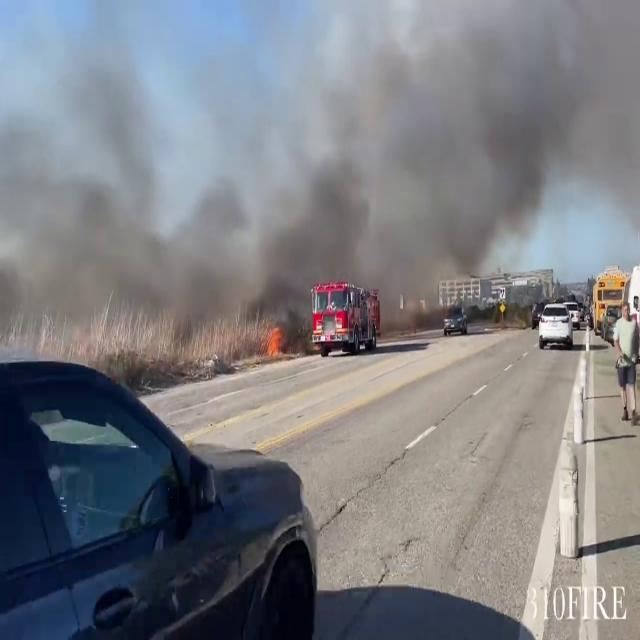Smoke: (228, 0, 640, 299), (0, 12, 241, 358)
